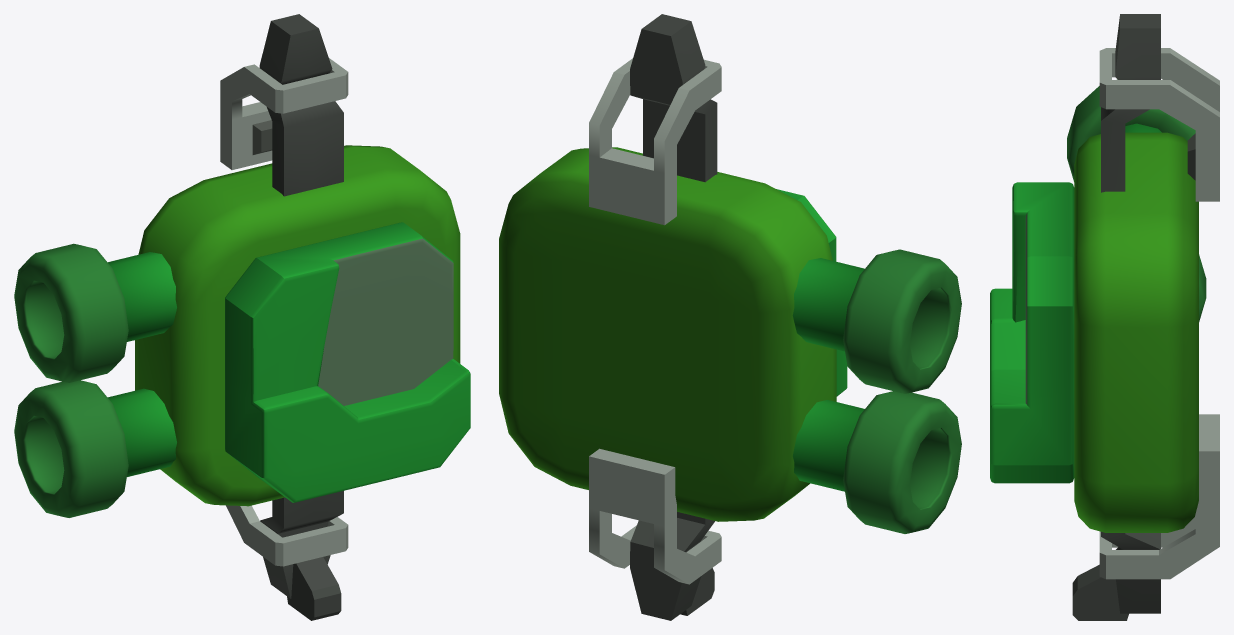
File: Procesor_Cooling_lvl_09_V05.fbx
The picture shows the model from 3 angles, left to right: view 1: azimuth 30°, elevation 25°; view 2: azimuth 150°, elevation 25°; view 3: azimuth 270°, elevation 25°; orthographic projection. The views are drawn at different scales.
Visible parts, largest first — view 1: Procesor_Cooling_lvl_09; view 2: Procesor_Cooling_lvl_09; view 3: Procesor_Cooling_lvl_09.
Part boxes in pixels (x1,y1,x2,y2): Procesor_Cooling_lvl_09: [14, 14, 470, 620]; Procesor_Cooling_lvl_09: [499, 14, 961, 620]; Procesor_Cooling_lvl_09: [990, 14, 1219, 620].
Size of the model in its own units: 32.81 by 45.04 by 15.83.
